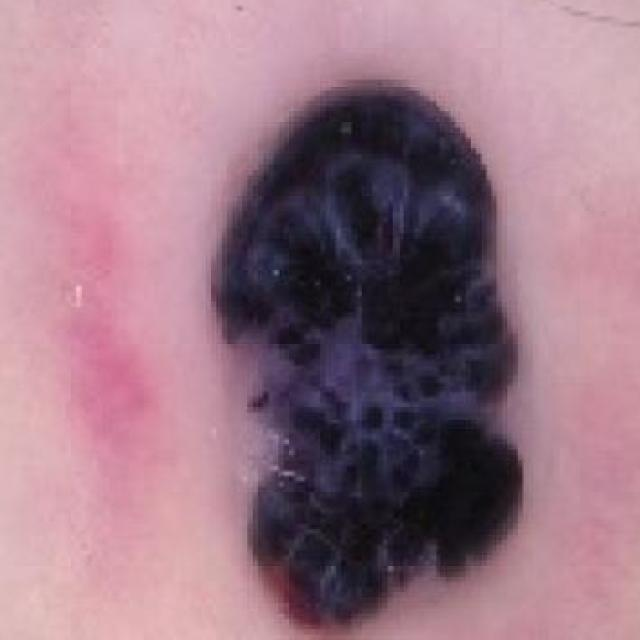VASC: (180, 7, 576, 640)
